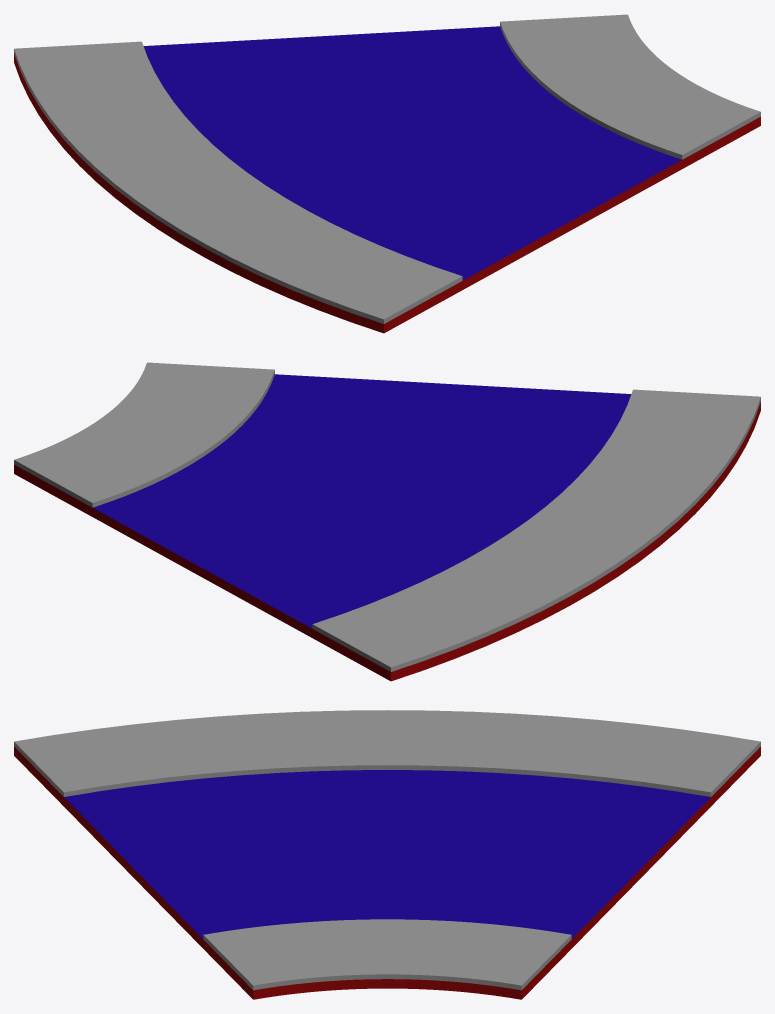
File: Street_00_DEG45.fbx
The picture shows the model from 3 angles, top to bottom: view 1: azimuth 30°, elevation 25°; view 2: azimuth 150°, elevation 25°; view 3: azimuth 270°, elevation 25°; orthographic projection.
Visible parts, largest first — view 1: Box001; view 2: Box001; view 3: Box001.
Part boxes in pixels (x1,y1,x2,y2): Box001: (14,14,760,333); Box001: (14,362,760,681); Box001: (14,710,760,999).
Size of the model in its own units: 246 by 282 by 5.91.
